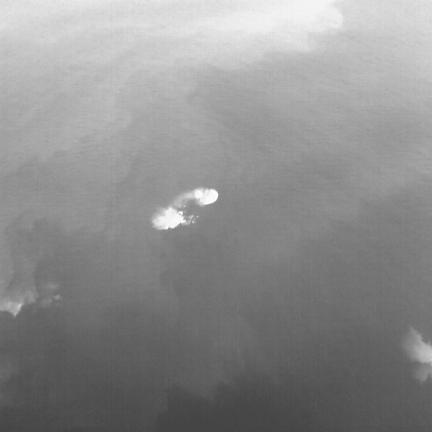flukeprints: (152, 207, 188, 229), (195, 188, 217, 204)
